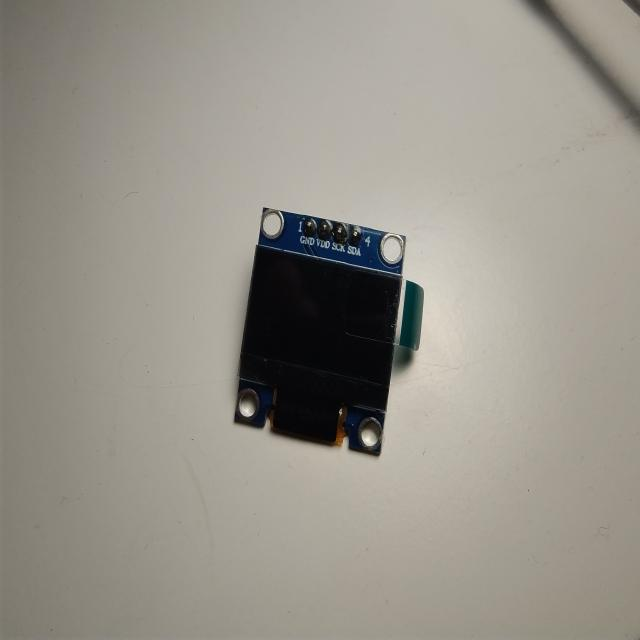oled: (225, 200, 429, 477)
